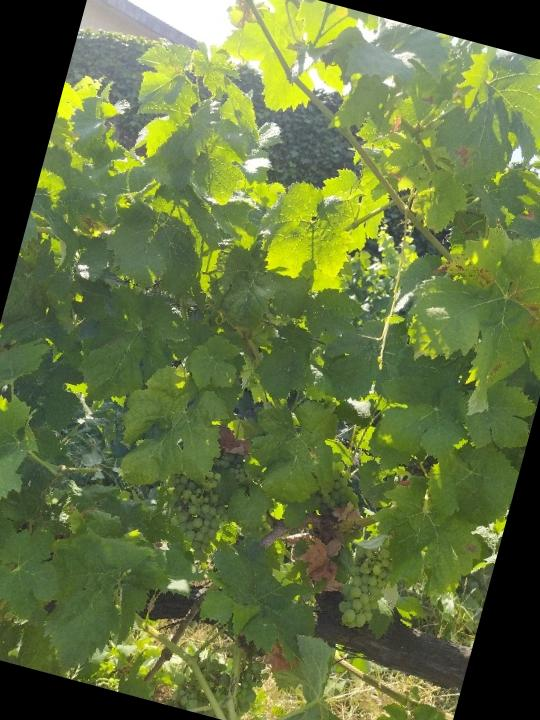grape: (149, 458, 244, 569), (329, 533, 403, 639)
